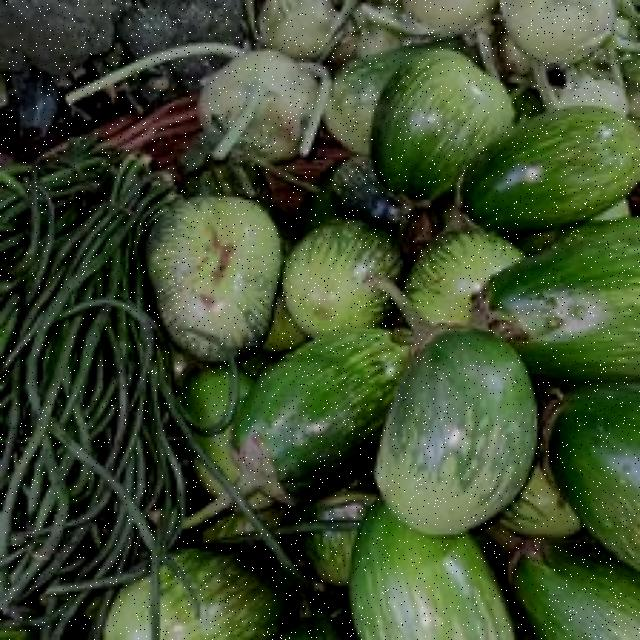Green Eggplant: (338, 5, 540, 213), (368, 315, 536, 535), (162, 175, 298, 360)
Long Beans: (0, 111, 166, 610)
